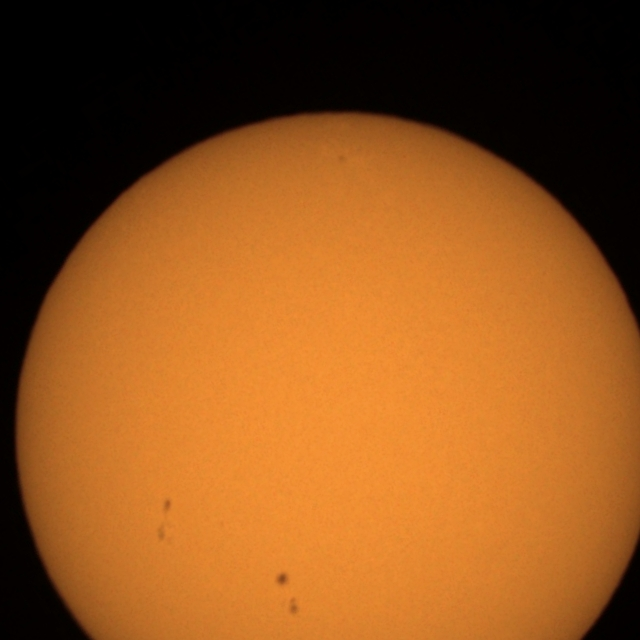sunspot: (155, 504, 174, 546), (287, 596, 301, 618), (274, 570, 290, 588), (161, 497, 173, 516)
